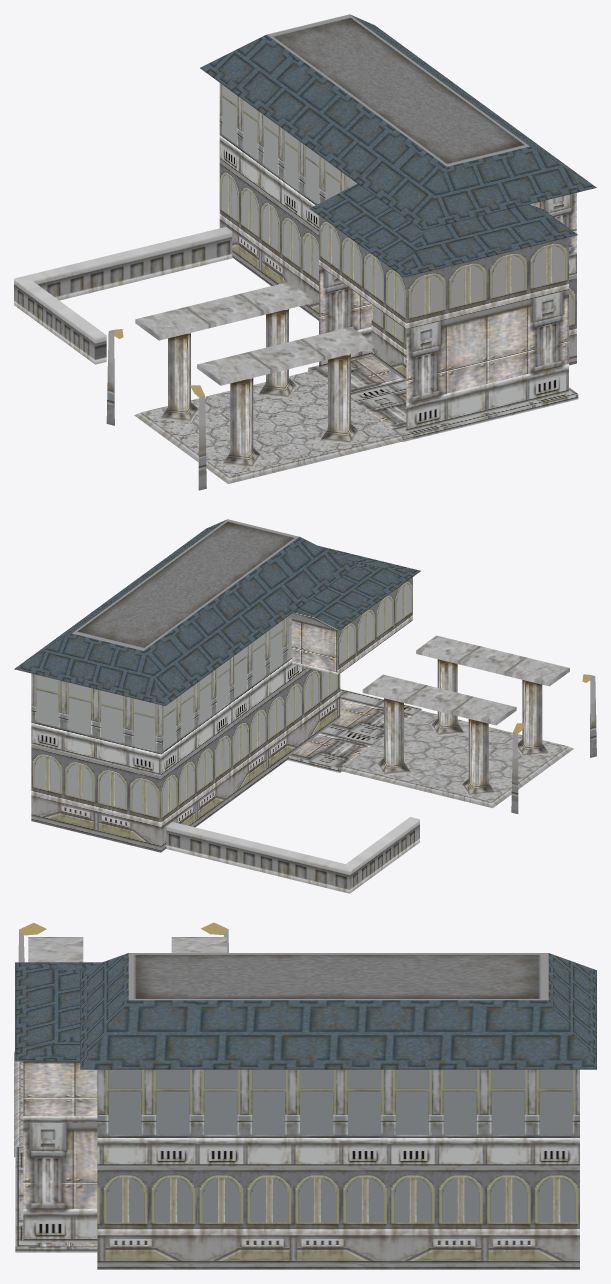
Rendered from s_gov2.glb.
3 views of the same model, one above another, from view 1: azimuth 30°, elevation 25°; view 2: azimuth 150°, elevation 25°; view 3: azimuth 270°, elevation 25° (orthographic). The views are drawn at different scales.
Visible parts, largest first — view 1: S_Gov2a, LitWin_S_gov2; view 2: S_Gov2a, LitWin_S_gov2; view 3: S_Gov2a, LitWin_S_gov2.
Part boxes in pixels (x1,y1,x2,y2): S_Gov2a: (14,14,596,490); LitWin_S_gov2: (221,85,572,340); S_Gov2a: (14,519,596,893); LitWin_S_gov2: (35,584,411,816); S_Gov2a: (14,922,596,1269); LitWin_S_gov2: (107,1069,575,1222).
Size of the model in its own units: 21.78 by 10.6 by 22.17.
Materials: 7 (7 with a texture image).
